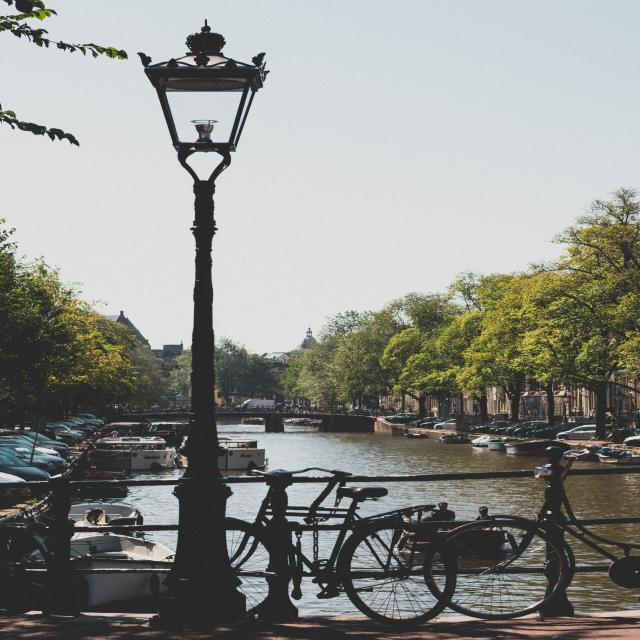Street Light: (138, 19, 270, 626)
